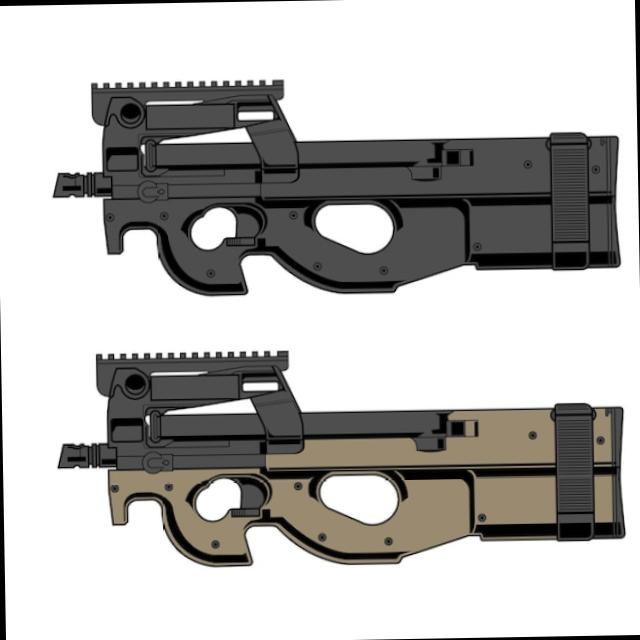Gun: (36, 57, 640, 322)
